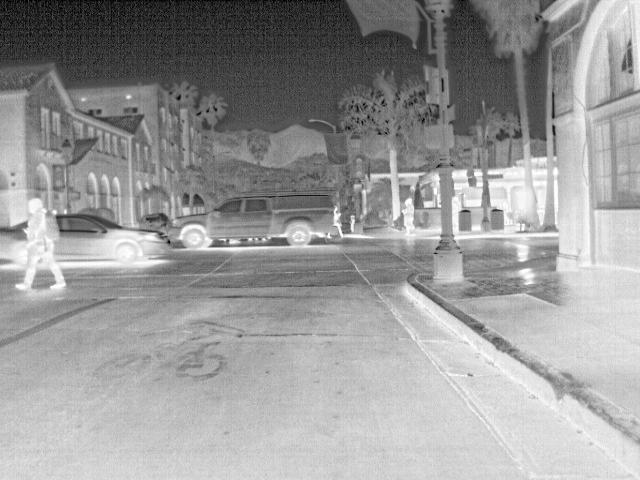car: (166, 188, 338, 252), (53, 212, 168, 267), (0, 220, 29, 268), (139, 212, 171, 234)
person: (13, 197, 68, 289), (403, 198, 417, 238), (333, 204, 346, 236)
